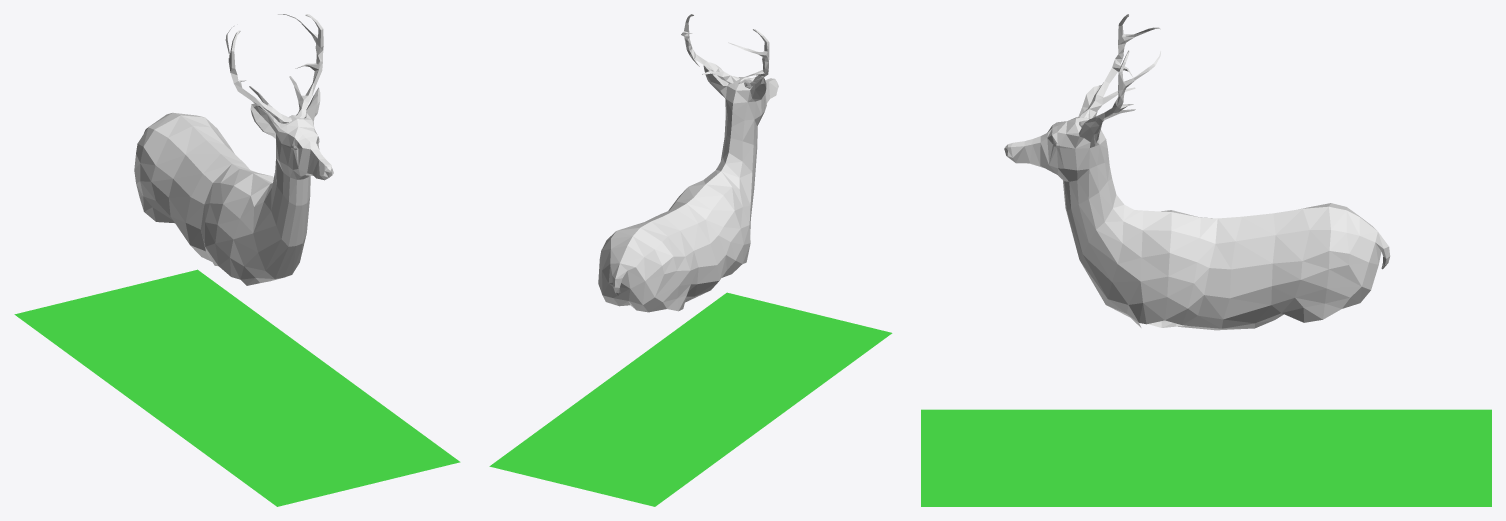
The model's file is Legless.dae.
3 views of the same model, side by side, from view 1: azimuth 30°, elevation 25°; view 2: azimuth 150°, elevation 25°; view 3: azimuth 270°, elevation 25° (orthographic). The views are drawn at different scales.
Visible parts, largest first — view 1: Plane.001, Deer; view 2: Plane.001, Deer; view 3: Plane.001, Deer.
Part boxes in pixels (box(x1,y1,x2,y2)): Plane.001: box(14, 269, 460, 506); Deer: box(134, 14, 333, 285); Plane.001: box(489, 292, 892, 506); Deer: box(598, 14, 778, 312); Plane.001: box(921, 409, 1491, 506); Deer: box(1004, 14, 1390, 330).
Size of the model in its own units: 200 by 498 by 409.
